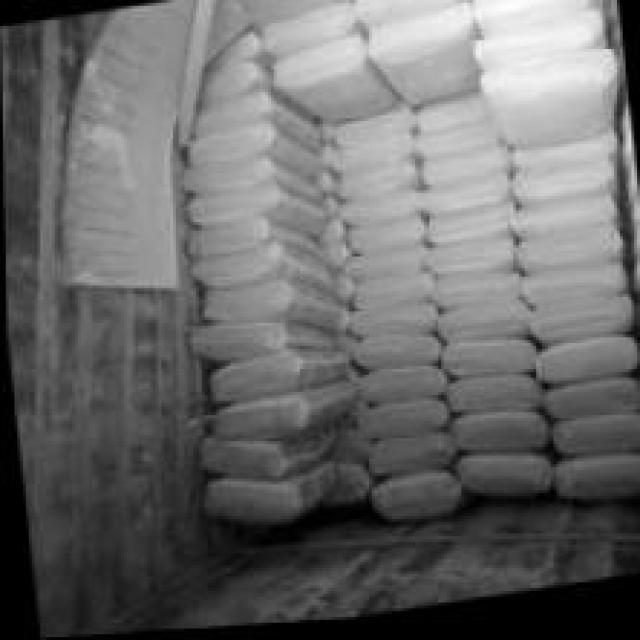gunny_bag: (480, 60, 609, 154), (269, 41, 389, 132), (368, 9, 469, 115), (201, 427, 342, 483), (185, 180, 326, 233), (483, 12, 597, 75), (190, 121, 318, 176), (207, 352, 341, 403), (209, 465, 339, 516), (208, 397, 357, 440), (189, 246, 329, 291), (516, 231, 621, 281), (536, 340, 634, 392), (519, 263, 622, 312), (529, 297, 629, 347), (202, 284, 335, 321), (542, 382, 639, 430), (189, 322, 333, 353), (549, 420, 640, 468), (520, 166, 608, 213), (514, 203, 613, 244), (329, 105, 410, 154), (420, 147, 506, 193), (338, 161, 413, 208), (361, 0, 458, 36), (445, 383, 539, 420), (460, 466, 548, 505), (439, 308, 524, 348), (455, 419, 540, 458), (429, 242, 511, 282), (487, 0, 595, 30), (339, 194, 422, 233), (426, 181, 506, 221), (348, 248, 428, 288), (427, 210, 506, 250), (562, 470, 640, 510), (367, 440, 442, 481), (349, 306, 432, 343), (432, 277, 517, 313), (349, 221, 423, 260), (352, 275, 426, 314), (364, 405, 438, 444), (362, 370, 442, 406), (373, 484, 454, 519), (443, 347, 530, 379), (359, 342, 432, 375), (418, 101, 483, 138)
